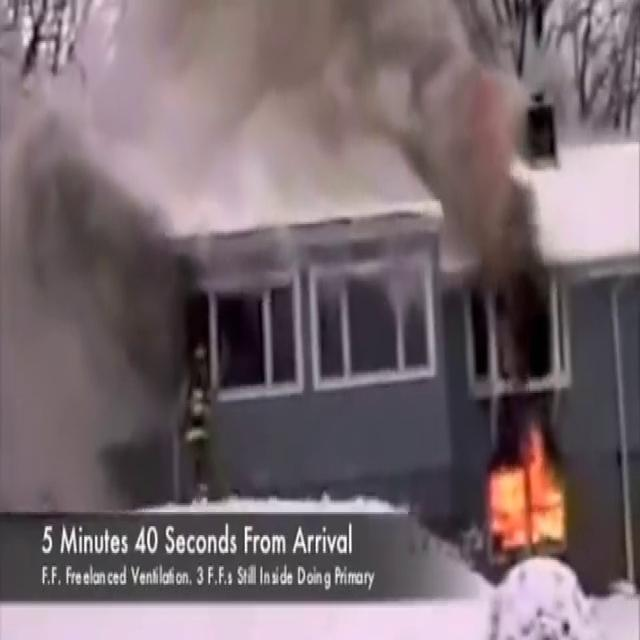Fire: (479, 422, 580, 568)
Smoke: (1, 0, 488, 206)
